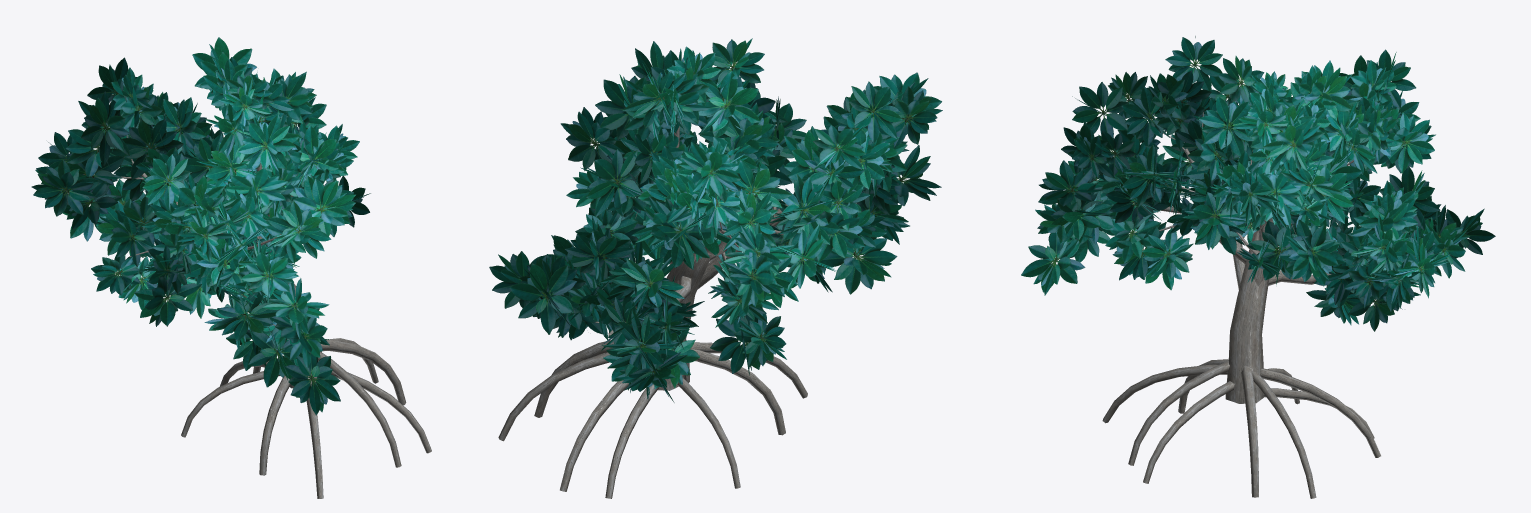
Rendered from nature-blue-mangrove_v3.glb.
The picture shows the model from 3 angles, left to right: view 1: azimuth 30°, elevation 25°; view 2: azimuth 150°, elevation 25°; view 3: azimuth 270°, elevation 25°; orthographic projection. The views are drawn at different scales.
Visible parts, largest first — view 1: nature-blue-mangrove; view 2: nature-blue-mangrove; view 3: nature-blue-mangrove.
Boxes of the visible parts, bbox=[...] form: nature-blue-mangrove: bbox=[31, 37, 431, 498]; nature-blue-mangrove: bbox=[489, 38, 942, 498]; nature-blue-mangrove: bbox=[1021, 36, 1495, 498].
Size of the model in its own units: 6.56 by 7.19 by 8.76.
2 materials, 2 textured.
